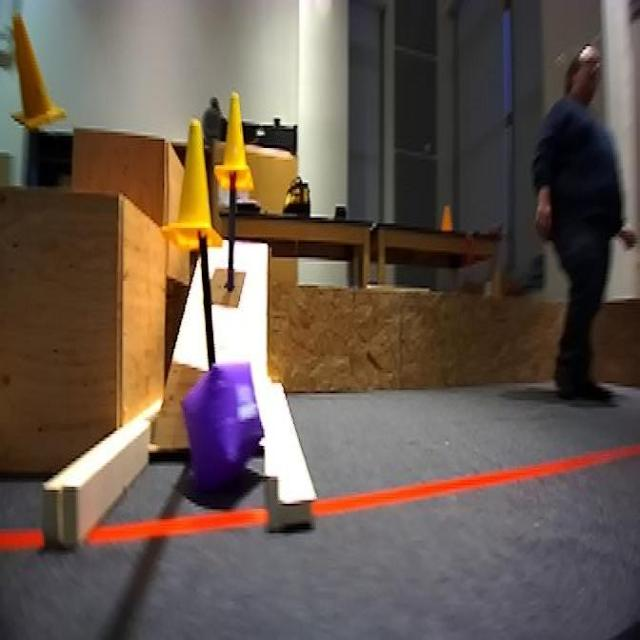frc_cone: (2, 0, 68, 146), (158, 118, 220, 262), (217, 96, 258, 192)
frc_cube: (182, 364, 264, 497)
